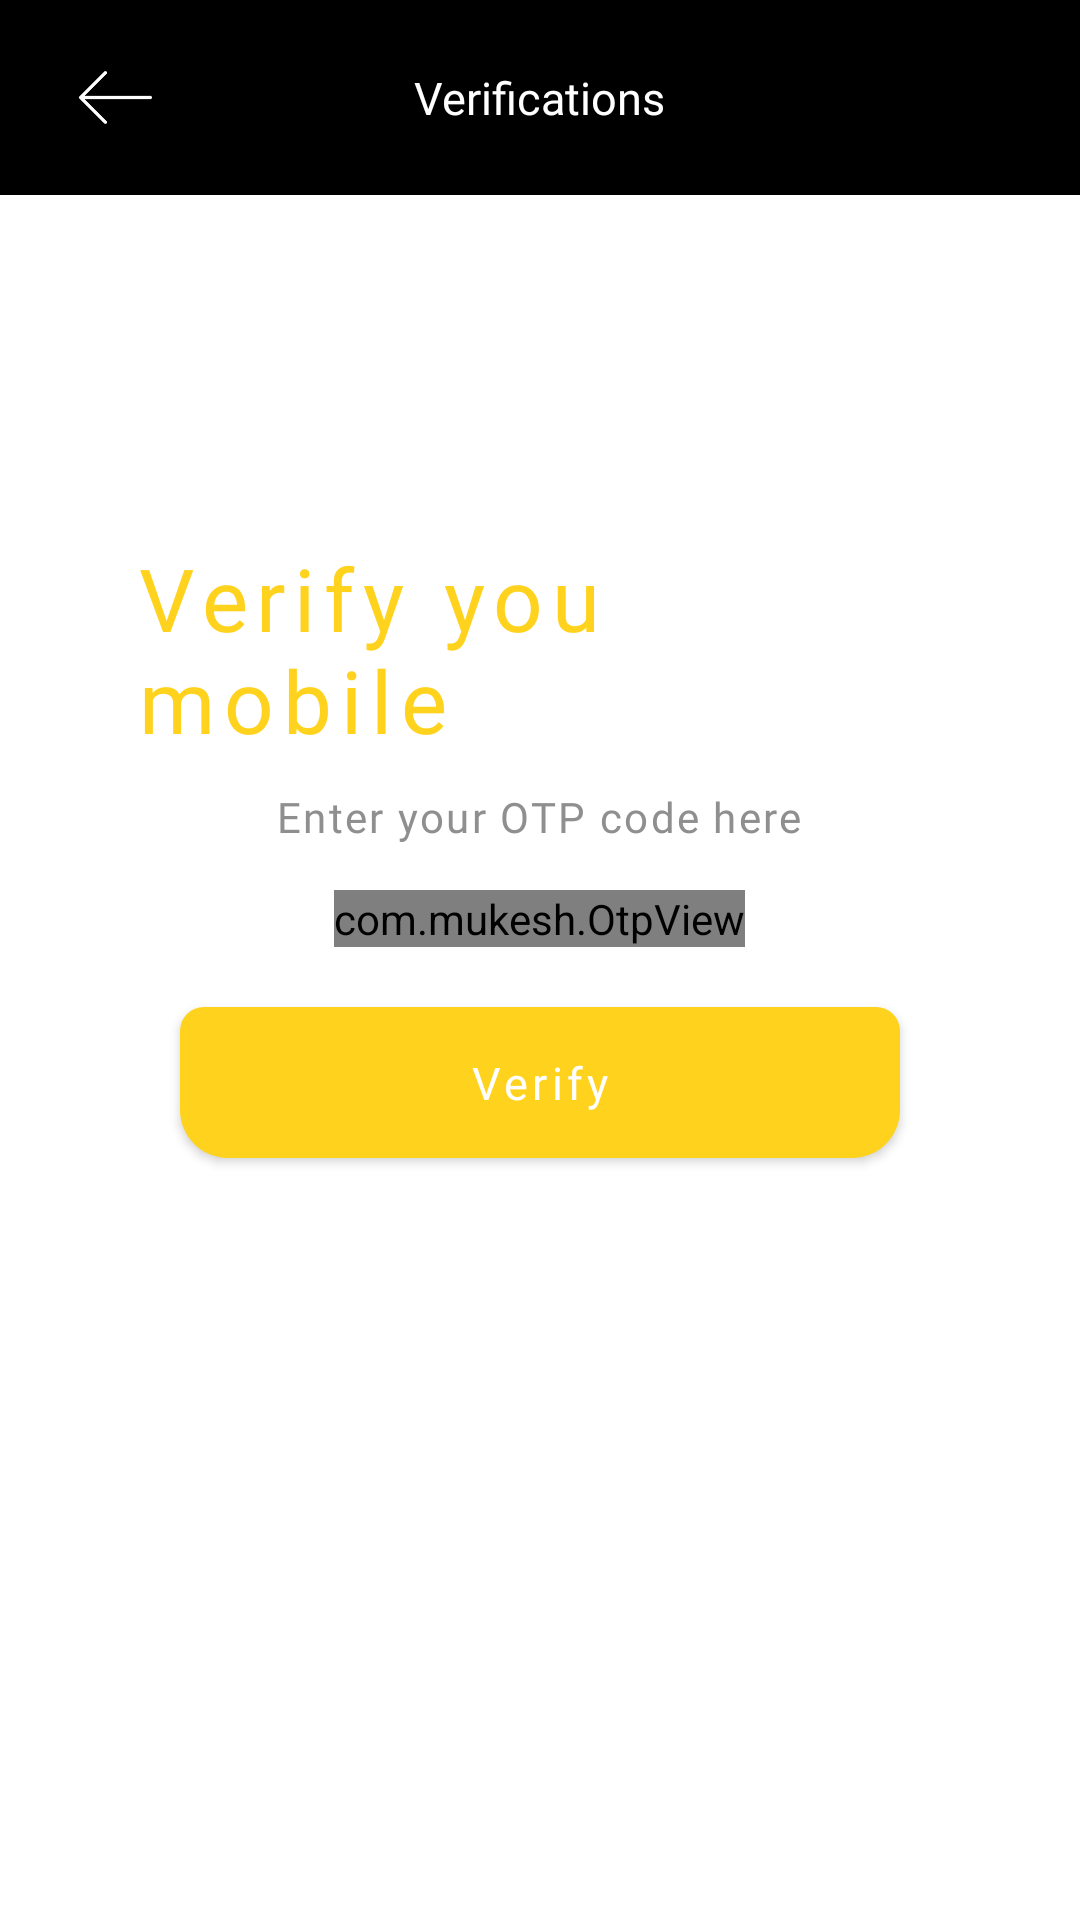

Icon click points for this 1080x1920 phone screenshot, format (x=x, y=y):
left arrow: (x=115, y=97)
